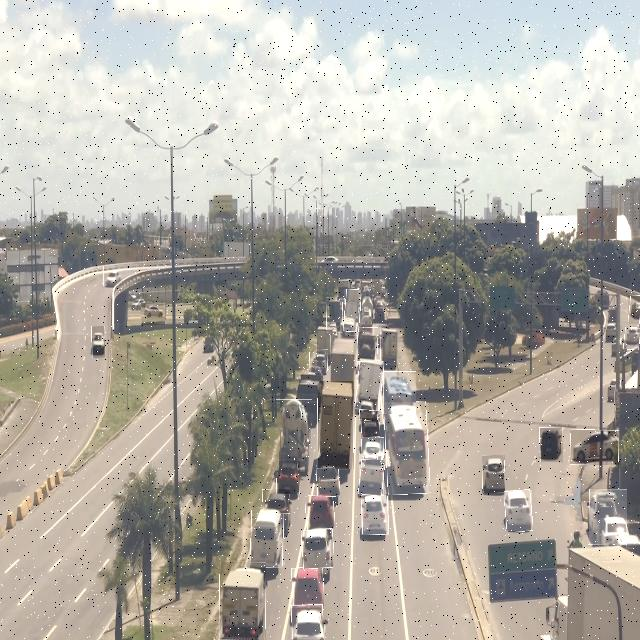Bus: (385, 402, 429, 494), (383, 371, 416, 414)
Car: (589, 489, 627, 545), (250, 508, 284, 568), (570, 430, 619, 465), (301, 529, 334, 569), (292, 568, 323, 608), (291, 604, 323, 640), (361, 495, 389, 535), (505, 490, 532, 531), (359, 453, 384, 496), (306, 495, 335, 529), (482, 455, 505, 493), (540, 427, 563, 462), (316, 465, 340, 497), (277, 461, 300, 494), (263, 489, 290, 514), (141, 304, 165, 326), (362, 437, 384, 460), (310, 349, 328, 373), (92, 326, 105, 358), (360, 399, 378, 421), (103, 266, 122, 286), (623, 328, 640, 350), (628, 295, 640, 324), (362, 418, 380, 437)
Truck: (220, 562, 266, 640), (318, 381, 354, 469), (276, 399, 312, 472), (330, 335, 358, 389), (357, 359, 383, 411), (380, 326, 399, 372), (344, 289, 361, 332), (358, 328, 378, 362), (327, 297, 343, 333)
